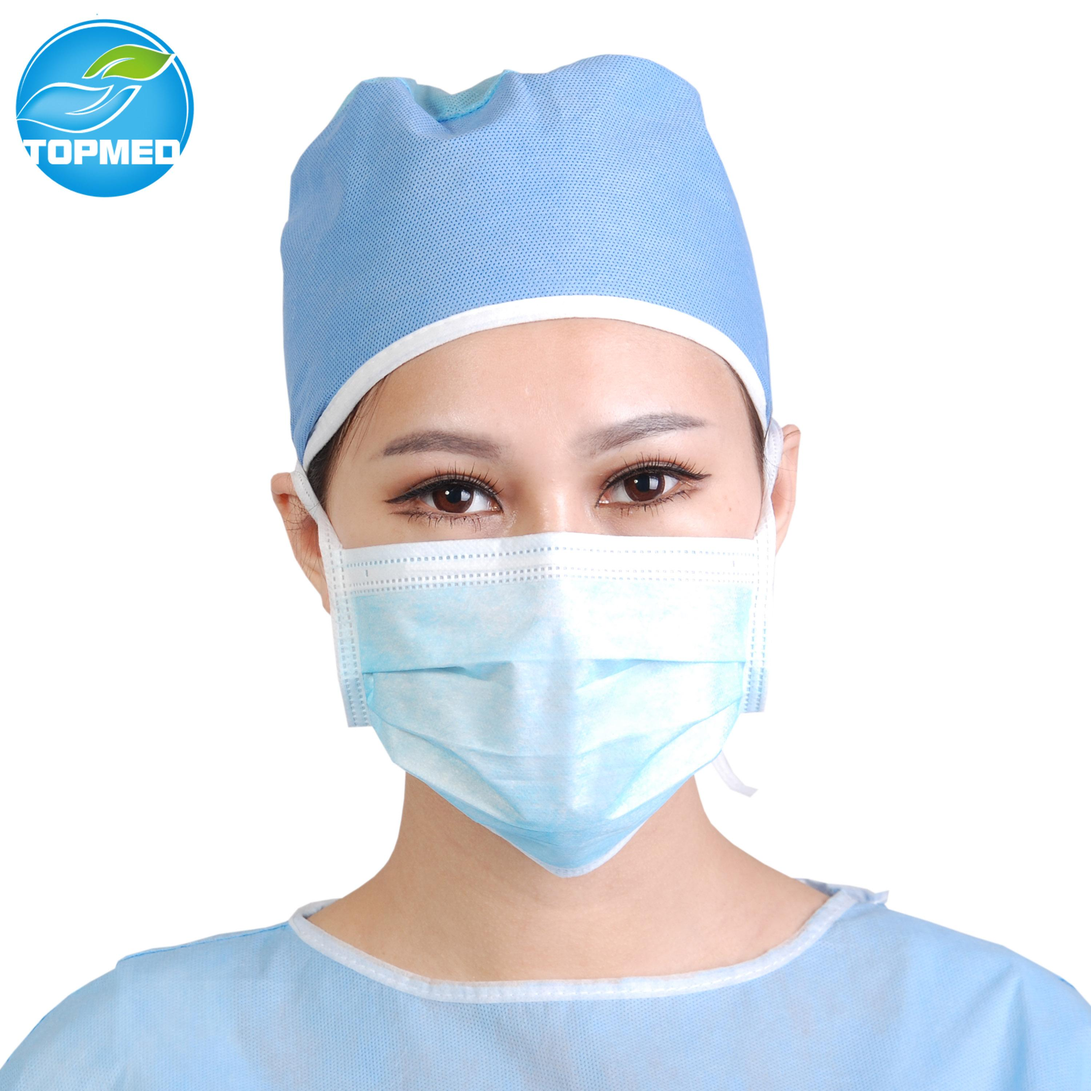Wearing Mask: (233, 75, 860, 877)
